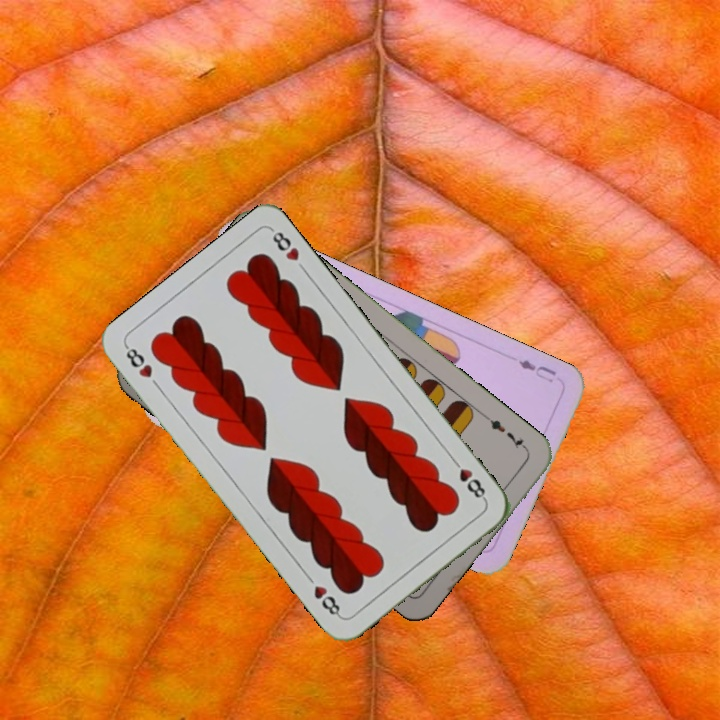E7: (480, 412, 531, 454)
EU: (514, 355, 559, 385)
H8: (447, 454, 489, 504), (121, 341, 155, 381)
